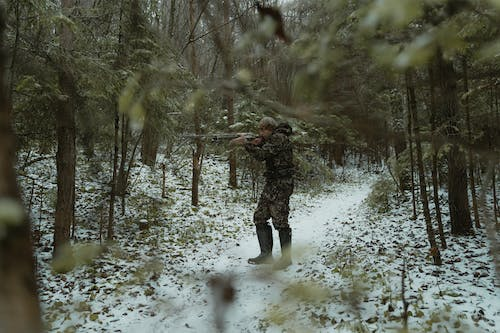gun: (183, 134, 264, 143)
